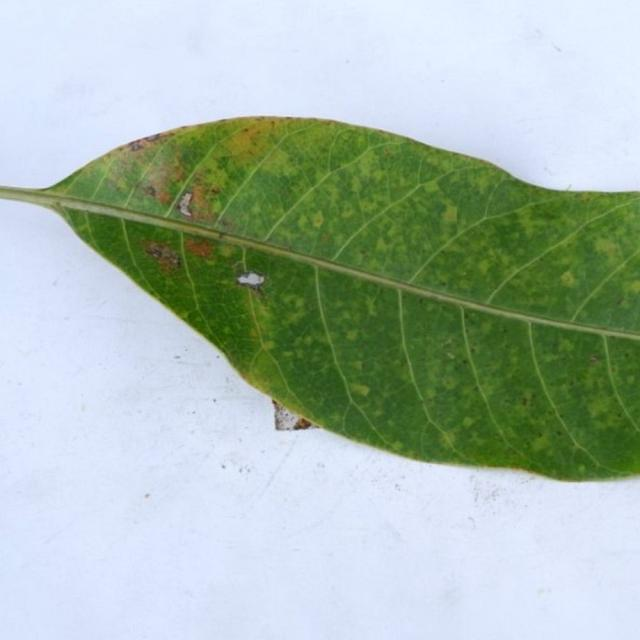Mango: (0, 118, 639, 480)
Powdery_Mildew: (594, 328, 632, 445), (65, 208, 118, 251), (221, 125, 276, 158), (194, 163, 231, 199), (143, 241, 182, 270), (256, 145, 291, 170), (565, 462, 622, 477), (344, 377, 381, 400), (586, 393, 617, 419), (303, 211, 332, 238), (235, 270, 266, 295), (184, 238, 214, 260), (213, 317, 240, 340), (129, 135, 165, 152), (594, 237, 618, 256), (538, 207, 563, 223), (178, 192, 194, 217), (171, 161, 188, 183), (441, 204, 459, 224), (438, 431, 458, 449), (531, 433, 551, 451), (362, 295, 379, 316), (509, 462, 539, 473), (560, 270, 577, 286), (155, 188, 172, 204), (360, 200, 378, 215), (476, 259, 493, 274), (423, 180, 441, 194), (217, 244, 235, 258), (209, 197, 223, 215), (139, 184, 157, 198), (340, 204, 356, 219), (114, 176, 129, 192), (558, 338, 575, 352), (374, 238, 389, 253), (442, 376, 458, 390), (311, 211, 324, 228), (371, 169, 385, 184), (231, 260, 247, 273), (350, 175, 362, 192), (292, 297, 306, 311), (143, 133, 164, 142), (148, 247, 163, 259), (129, 140, 145, 151), (345, 329, 359, 341), (351, 360, 364, 372), (261, 340, 275, 351), (462, 417, 476, 428), (220, 218, 234, 228), (446, 351, 456, 360), (443, 338, 453, 347), (589, 354, 599, 363), (175, 202, 184, 212), (217, 118, 231, 123), (217, 232, 225, 240), (55, 200, 63, 208), (521, 397, 528, 406), (616, 298, 623, 305), (417, 297, 424, 304), (359, 249, 366, 255), (556, 430, 563, 436), (461, 359, 468, 365), (242, 127, 249, 133), (566, 184, 572, 190), (440, 281, 447, 286)
